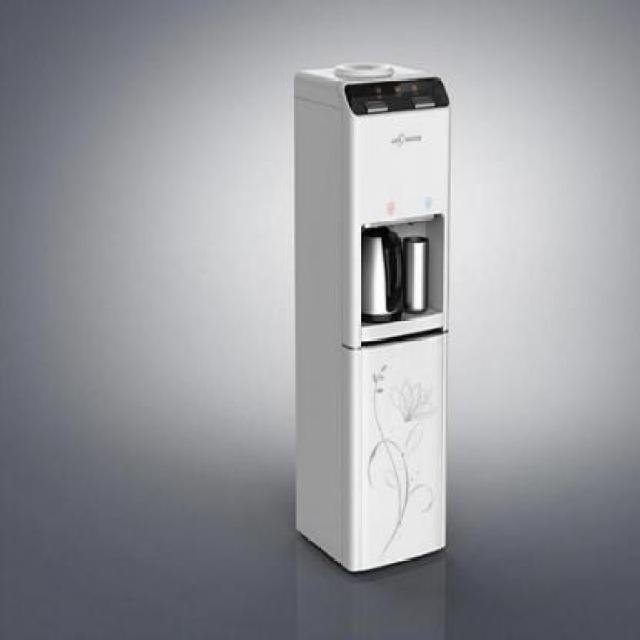cooler: (293, 63, 452, 579)
